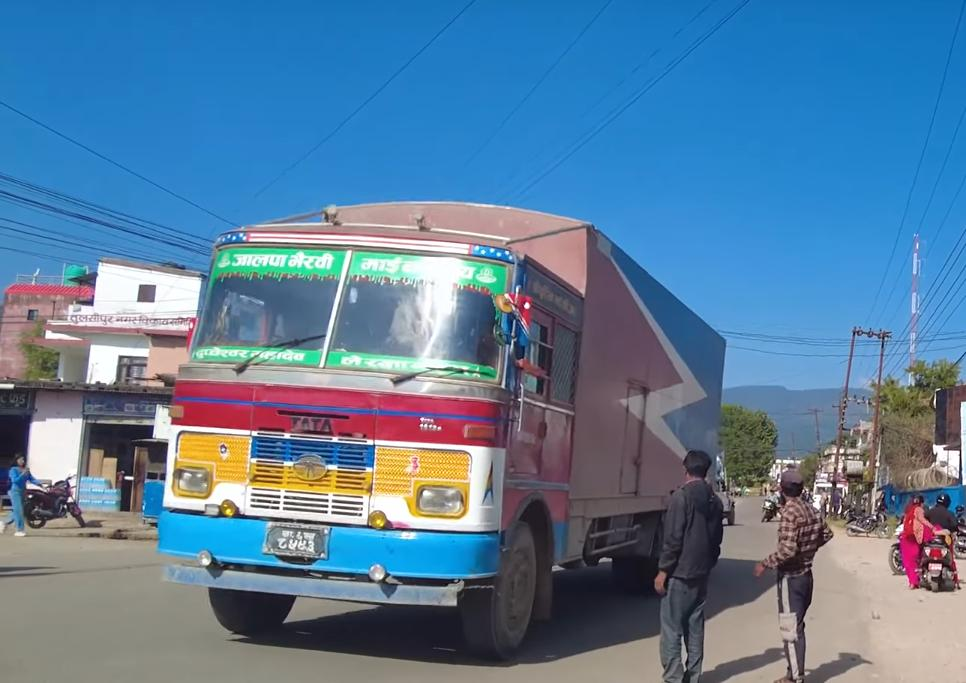bike: (22, 473, 86, 529)
truck: (153, 199, 729, 660)
